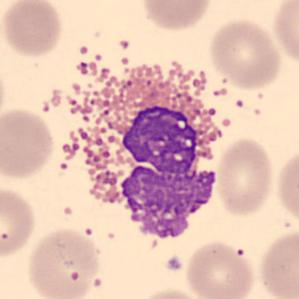Eosinophil: (52, 52, 234, 244)
Platelets: (164, 254, 183, 272)
RBC: (24, 225, 104, 299), (206, 16, 284, 91), (212, 135, 276, 219), (182, 238, 258, 299), (0, 105, 57, 181), (0, 0, 65, 58), (255, 226, 299, 299), (0, 183, 38, 260), (138, 0, 214, 33), (274, 144, 299, 228), (270, 0, 298, 68), (135, 286, 207, 299), (0, 61, 7, 124)
